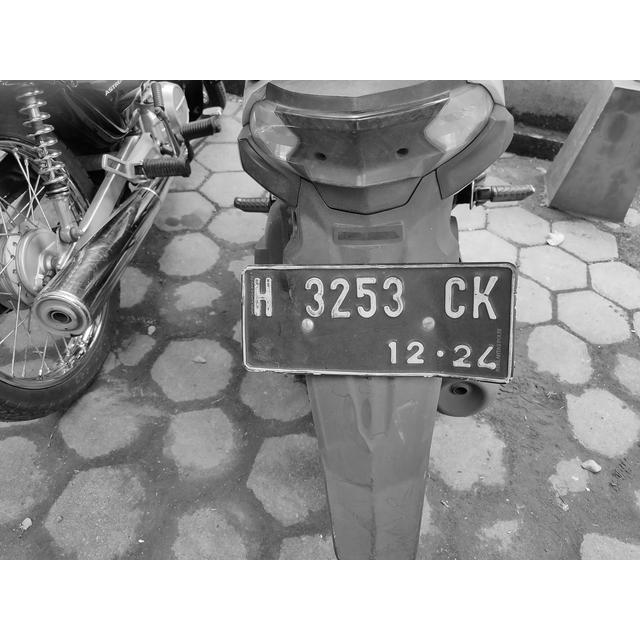license: (250, 269, 505, 377)
